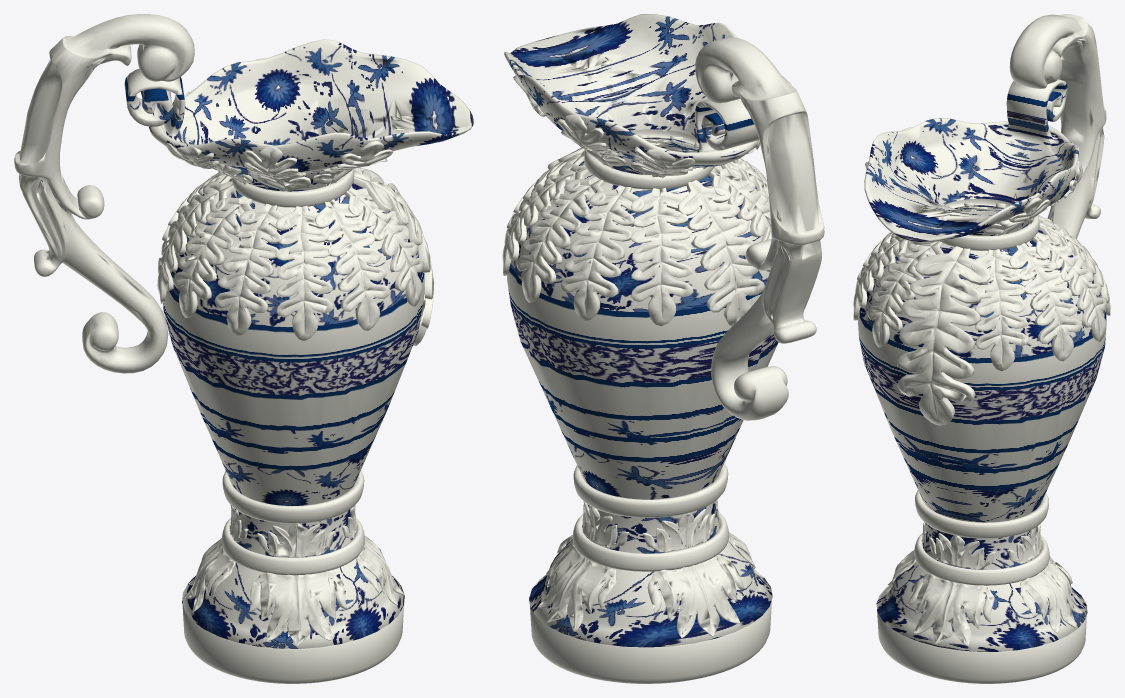
3 views of the same model, side by side, from view 1: azimuth 30°, elevation 25°; view 2: azimuth 150°, elevation 25°; view 3: azimuth 270°, elevation 25° (orthographic). The views are drawn at different scales.
Parts seen in each view (by area): view 1: xiushi, zhuti; view 2: xiushi, zhuti; view 3: zhuti, xiushi.
Part boxes in pixels (bbox=[...]): xiushi: bbox=[14, 14, 443, 683]; zhuti: bbox=[124, 39, 473, 648]; xiushi: bbox=[502, 37, 824, 683]; zhuti: bbox=[504, 14, 778, 647]; zhuti: bbox=[857, 79, 1106, 651]; xiushi: bbox=[853, 14, 1110, 683].
Bounding box in the file's own units: 111 × 181 × 74.16.
1 material, 1 textured.
